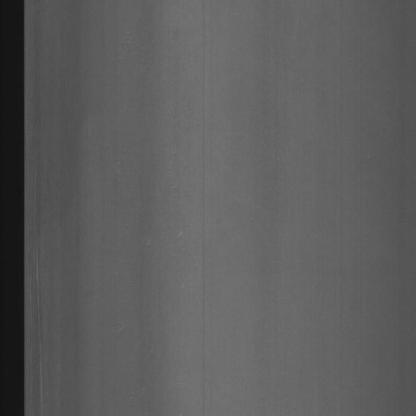silk_spot: (26, 189, 53, 410)
